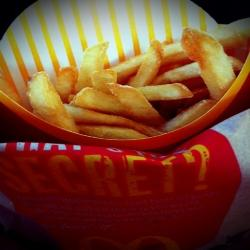fries: (17, 19, 250, 146)
